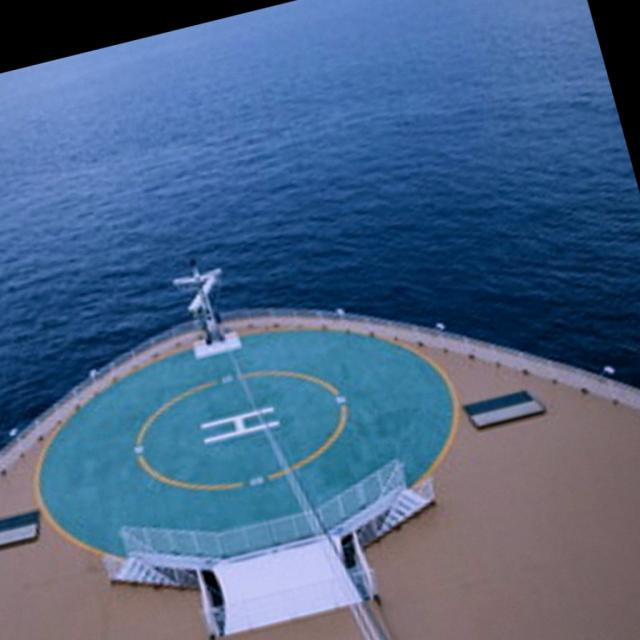helipad: (132, 366, 350, 494)
